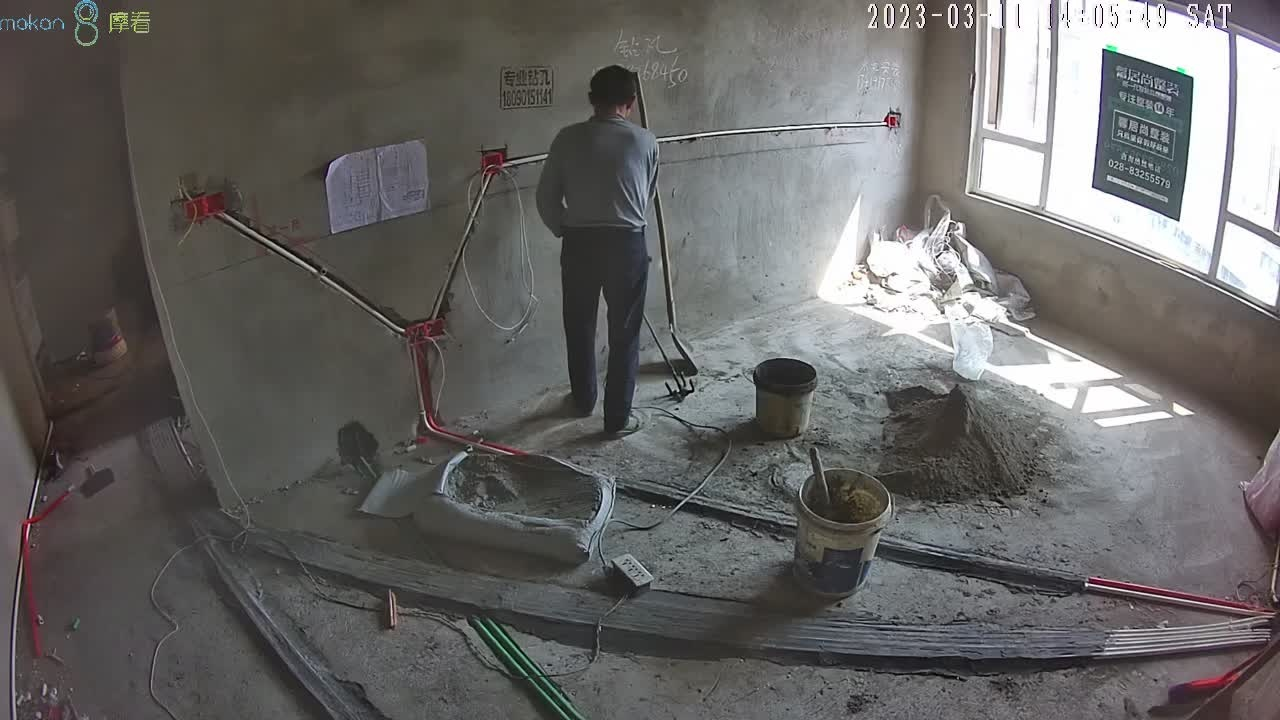people: (532, 66, 654, 435)
window: (964, 1, 1280, 309)
